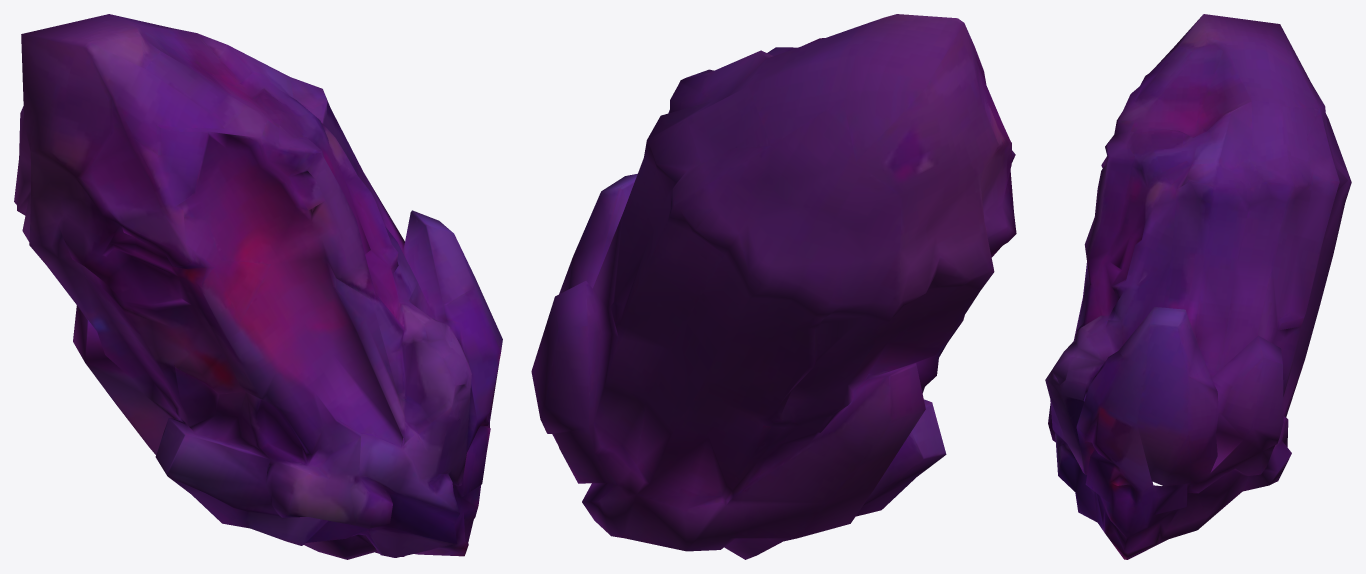
Rendered from cristal_trevas.glb.
The picture shows the model from 3 angles, left to right: view 1: azimuth 30°, elevation 25°; view 2: azimuth 150°, elevation 25°; view 3: azimuth 270°, elevation 25°; orthographic projection. The views are drawn at different scales.
Parts seen in each view (by area): view 1: tripo_node_44822f29-49a1-4bc9-8b14-ab879a34b3d5; view 2: tripo_node_44822f29-49a1-4bc9-8b14-ab879a34b3d5; view 3: tripo_node_44822f29-49a1-4bc9-8b14-ab879a34b3d5.
Boxes of the visible parts, x1,y1,x2,y2 form: tripo_node_44822f29-49a1-4bc9-8b14-ab879a34b3d5: (14, 14, 502, 559); tripo_node_44822f29-49a1-4bc9-8b14-ab879a34b3d5: (531, 14, 1016, 559); tripo_node_44822f29-49a1-4bc9-8b14-ab879a34b3d5: (1045, 14, 1351, 559).
Size of the model in its own units: 0.7713 by 0.978 by 0.6393.
1 material, 1 textured.
